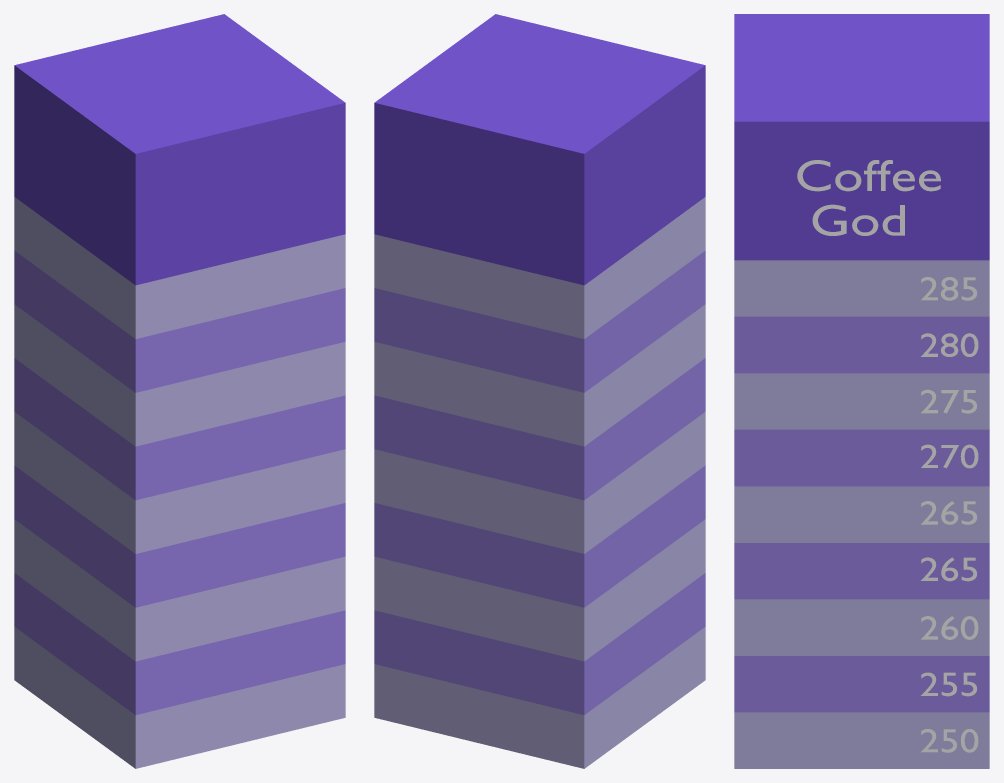
File: coffeee_god_block.fbx
3 renders of one model, left to right at view 1: azimuth 30°, elevation 25°; view 2: azimuth 150°, elevation 25°; view 3: azimuth 270°, elevation 25°, orthographic. The views are drawn at different scales.
Parts seen in each view (by area): view 1: Cube.059, Cube.058, Cube.057, Cube.052, Cube.051, Cube.050, Cube.056, Cube.055, Cube.053, Cube.054; view 2: Cube.059, Cube.058, Cube.057, Cube.052, Cube.051, Cube.050, Cube.056, Cube.055, Cube.053, Cube.054; view 3: Cube.059, Cube.055, Cube.057, Cube.056, Cube.054, Cube.051, Cube.050, Cube.053, Cube.052, Cube.058, Text.050, Text.058 (+8 smaller).
Part boxes in pixels (left/top/right/bottom): Cube.059: left=14, top=14, right=345, bottom=285; Cube.058: left=14, top=197, right=345, bottom=338; Cube.057: left=14, top=250, right=345, bottom=392; Cube.052: left=14, top=519, right=345, bottom=661; Cube.051: left=14, top=573, right=345, bottom=715; Cube.050: left=14, top=627, right=345, bottom=768; Cube.056: left=14, top=304, right=345, bottom=446; Cube.055: left=14, top=358, right=345, bottom=500; Cube.053: left=14, top=465, right=345, bottom=607; Cube.054: left=14, top=412, right=345, bottom=553; Cube.059: left=374, top=14, right=705, bottom=285; Cube.058: left=374, top=197, right=705, bottom=338; Cube.057: left=374, top=250, right=705, bottom=392; Cube.052: left=374, top=519, right=705, bottom=661; Cube.051: left=374, top=573, right=705, bottom=715; Cube.050: left=374, top=627, right=705, bottom=768; Cube.056: left=374, top=304, right=705, bottom=446; Cube.055: left=374, top=358, right=705, bottom=500; Cube.053: left=374, top=465, right=705, bottom=607; Cube.054: left=374, top=412, right=705, bottom=553; Cube.059: left=734, top=14, right=989, bottom=260; Cube.055: left=734, top=429, right=989, bottom=486; Cube.057: left=734, top=316, right=989, bottom=373; Cube.056: left=734, top=373, right=989, bottom=429; Cube.054: left=734, top=486, right=989, bottom=542; Cube.051: left=734, top=656, right=989, bottom=712; Cube.050: left=734, top=712, right=989, bottom=768; Cube.053: left=734, top=543, right=989, bottom=599; Cube.052: left=734, top=599, right=989, bottom=655; Cube.058: left=734, top=260, right=989, bottom=316; Text.050: left=797, top=160, right=940, bottom=235; Text.058: left=921, top=333, right=978, bottom=356.
Size of the model in its own units: 200 by 560 by 200.
